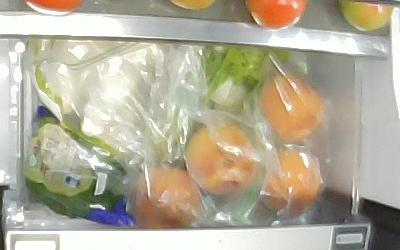peach_vinyl: (183, 124, 258, 194), (255, 146, 322, 217), (260, 72, 325, 142), (131, 167, 199, 229)
